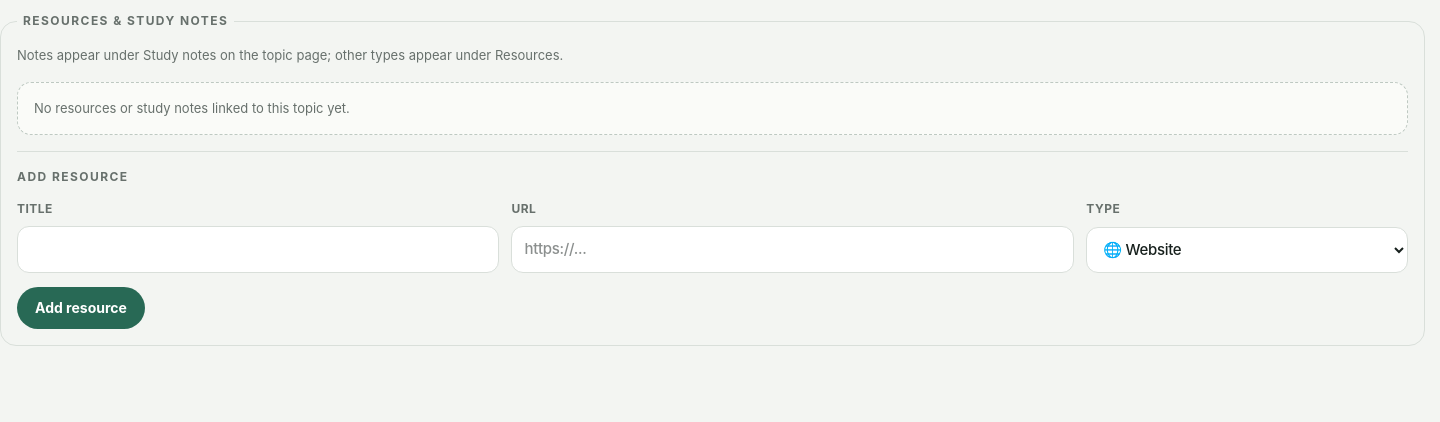
it: TopicResourcesManager › displays validation error when createAction returns an error
The width and height of the screenshot is (1440, 422).
Type "Bad Resource" into the field labelled "Title" at (258, 249), box 17,226 -> 500,272
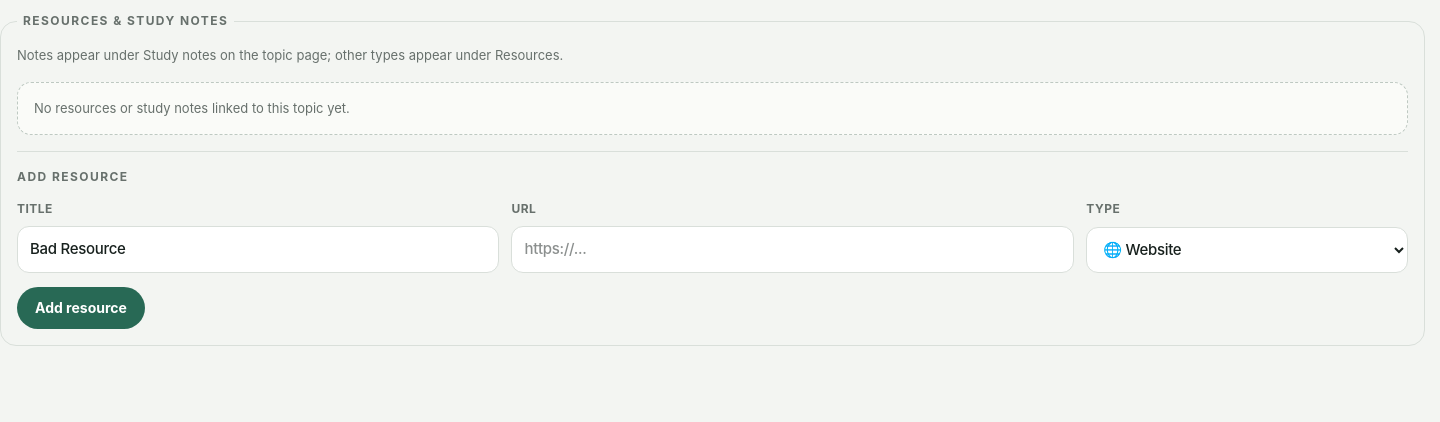
Type "https://example.com" into the field labelled "URL" at (793, 249), box 512,226 -> 1074,272
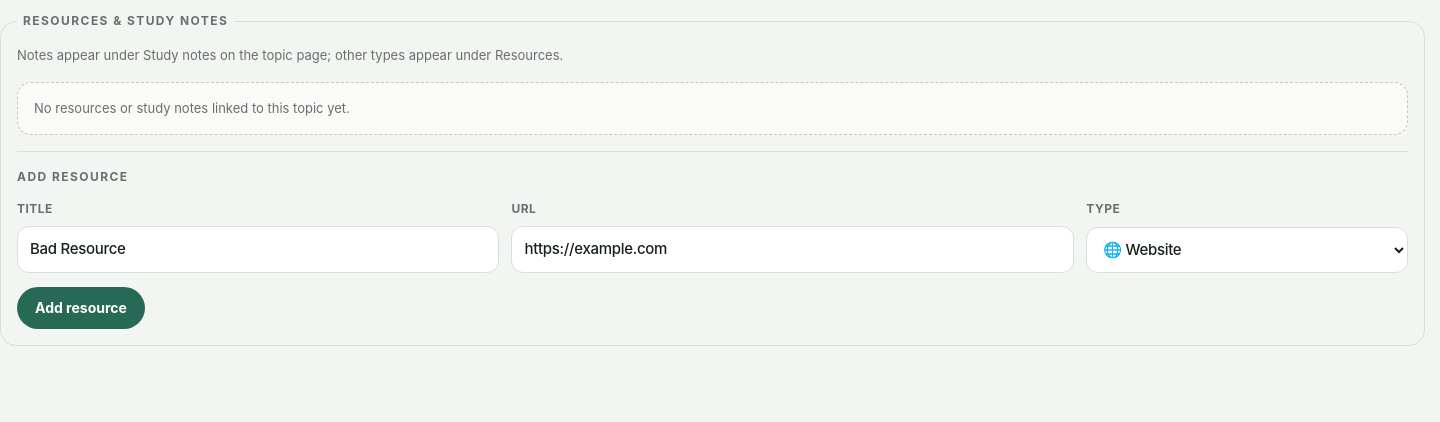
Submit the form with test id "add-resource-form", box 17,151 -> 1408,328
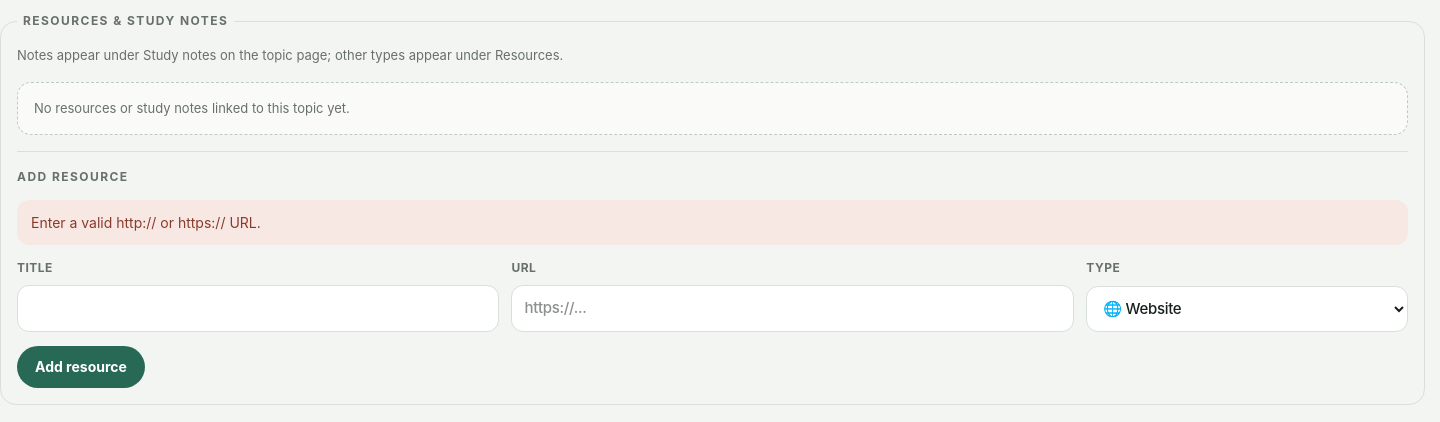
Result: the message reads "Enter a valid http:// or https:// URL." at 31,214 -> 261,231
